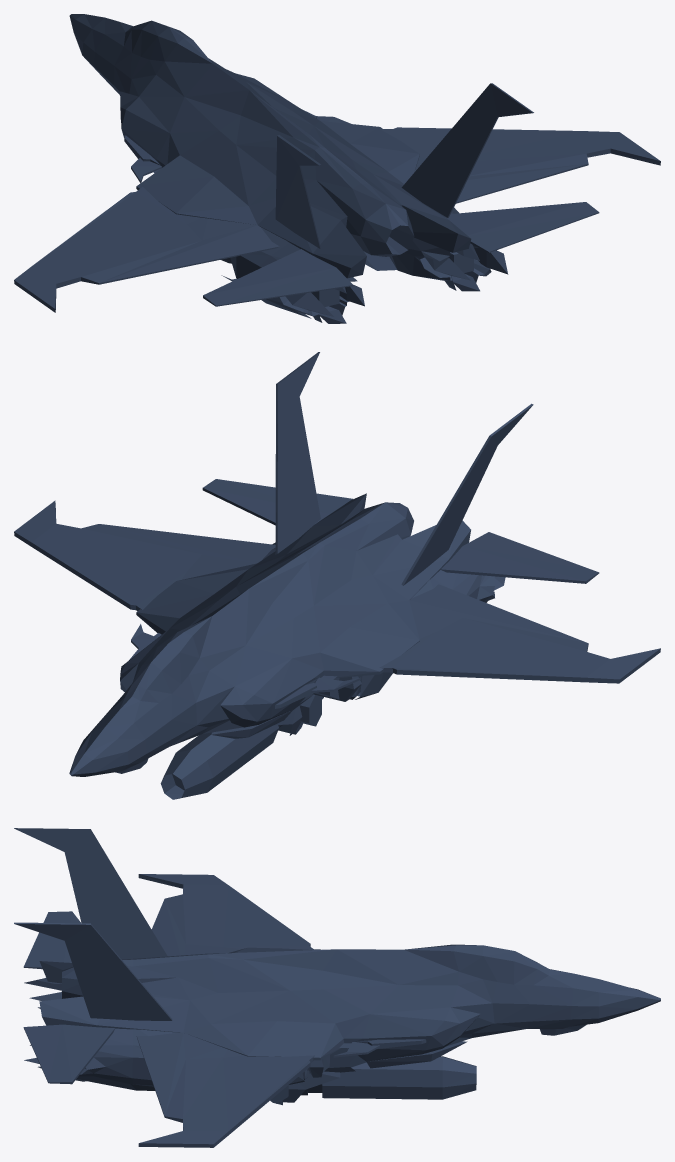
Rendered from dreadwing-jet.glb.
3 renders of one model, top to bottom at view 1: azimuth 30°, elevation 25°; view 2: azimuth 150°, elevation 25°; view 3: azimuth 270°, elevation 25°, orthographic. The views are drawn at different scales.
Visible parts, largest first — view 1: Object_2; view 2: Object_2; view 3: Object_2.
Boxes of the visible parts, x1,y1,x2,y2 form: Object_2: [14, 14, 660, 323]; Object_2: [14, 352, 660, 799]; Object_2: [14, 828, 660, 1147].
Size of the model in its own units: 15.76 by 6.09 by 16.
